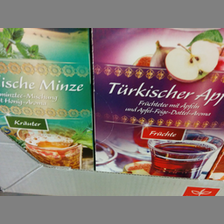tea: (91, 29, 223, 179), (1, 28, 93, 170)
